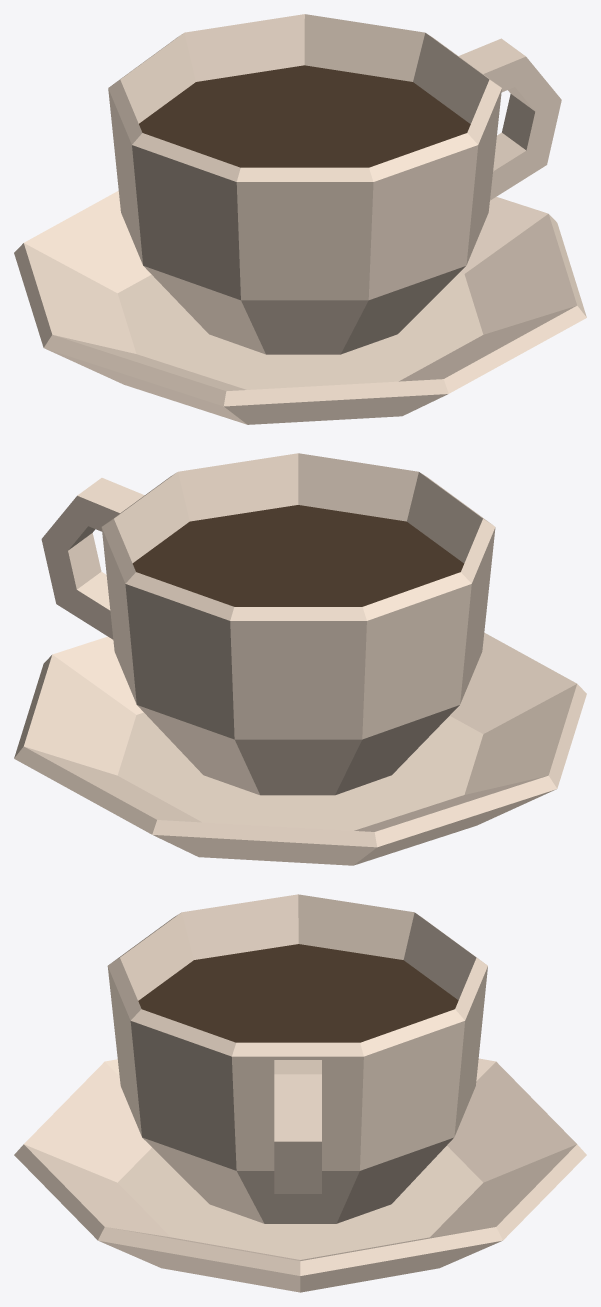
Rendered from food_coffee-cup.fbx.
3 renders of one model, top to bottom at view 1: azimuth 30°, elevation 25°; view 2: azimuth 150°, elevation 25°; view 3: azimuth 270°, elevation 25°, orthographic. The views are drawn at different scales.
Visible parts, largest first — view 1: food_coffee_cup; view 2: food_coffee_cup; view 3: food_coffee_cup.
Boxes of the visible parts, box(x1,y1,x2,y2) form: food_coffee_cup: box(14, 14, 586, 424); food_coffee_cup: box(14, 453, 586, 865); food_coffee_cup: box(14, 894, 586, 1292).
Bounding box in the file's own units: 200 × 92.45 × 200.
